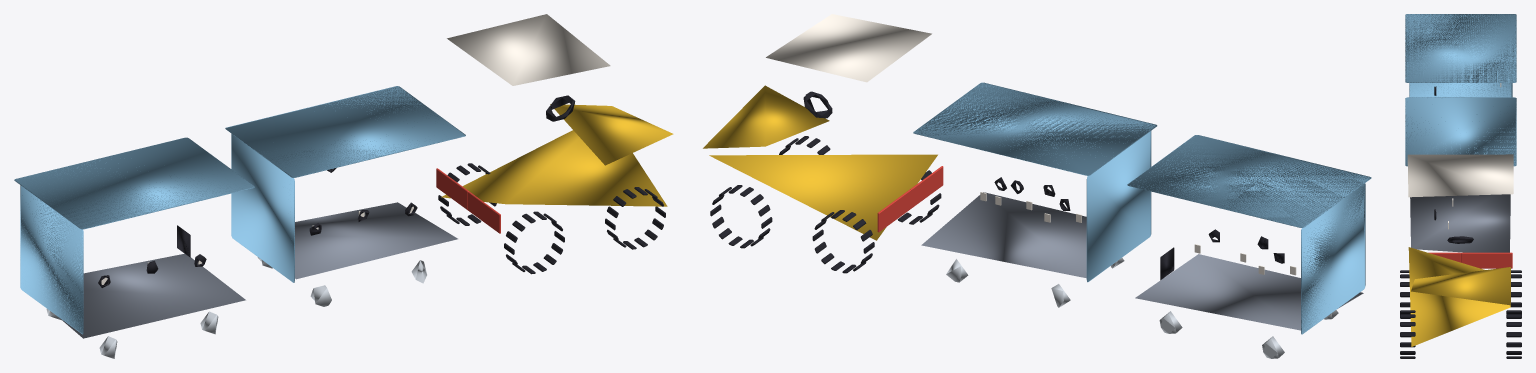
The model's file is baggage_tug.glb.
3 views of the same model, side by side, from view 1: azimuth 30°, elevation 25°; view 2: azimuth 150°, elevation 25°; view 3: azimuth 270°, elevation 25° (orthographic). The views are drawn at different scales.
Visible parts, largest first — view 1: baggage_tug; view 2: baggage_tug; view 3: baggage_tug.
Part boxes in pixels (x1,y1,x2,y2): baggage_tug: [14, 14, 673, 358]; baggage_tug: [703, 14, 1371, 358]; baggage_tug: [1400, 14, 1521, 358].
Bounding box in the file's own units: 6.49 × 1.97 × 1.42.
1 material, 1 textured.
